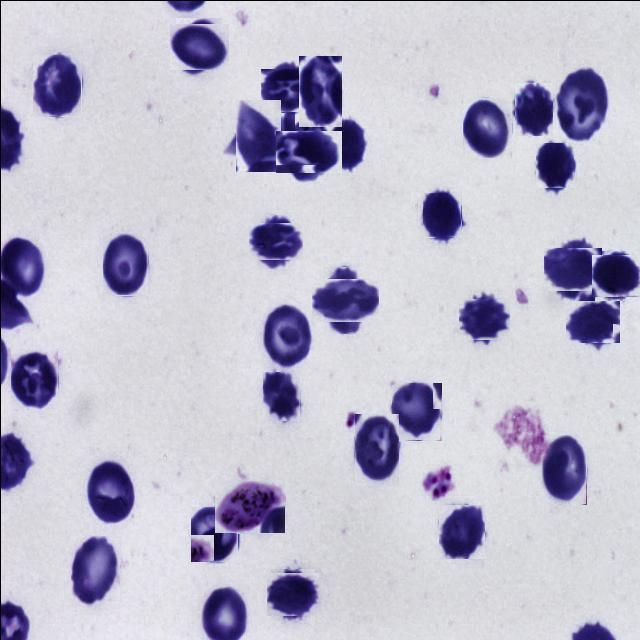difficult: (214, 480, 285, 533)
red blood cell: (70, 534, 120, 608), (556, 68, 608, 138), (228, 106, 288, 164), (540, 434, 586, 504), (298, 55, 342, 127), (354, 413, 398, 485), (316, 272, 372, 328), (85, 458, 134, 522), (264, 302, 311, 368), (462, 97, 512, 158), (32, 54, 81, 116), (280, 124, 334, 178), (102, 232, 148, 295), (10, 347, 57, 408), (390, 382, 440, 439), (172, 20, 225, 73), (190, 506, 238, 562), (546, 243, 598, 294), (438, 503, 484, 558), (262, 64, 312, 114), (268, 570, 316, 618), (568, 296, 616, 344), (459, 296, 506, 342), (592, 252, 638, 298), (252, 218, 298, 264), (514, 80, 552, 134), (262, 370, 300, 420), (329, 116, 364, 170), (422, 192, 461, 237), (535, 142, 573, 187)
